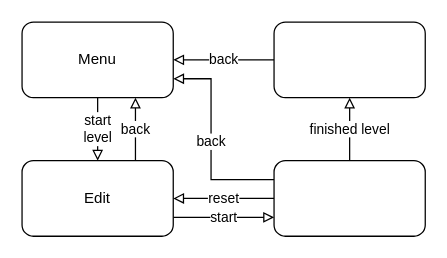
Image size: 447x258. Some labels were removed from this diagram. Here are the shapes that lost their labels. From the top down, the centre of each, then its label:
pixel 349 59: Finished Run
pixel 349 197: Run
